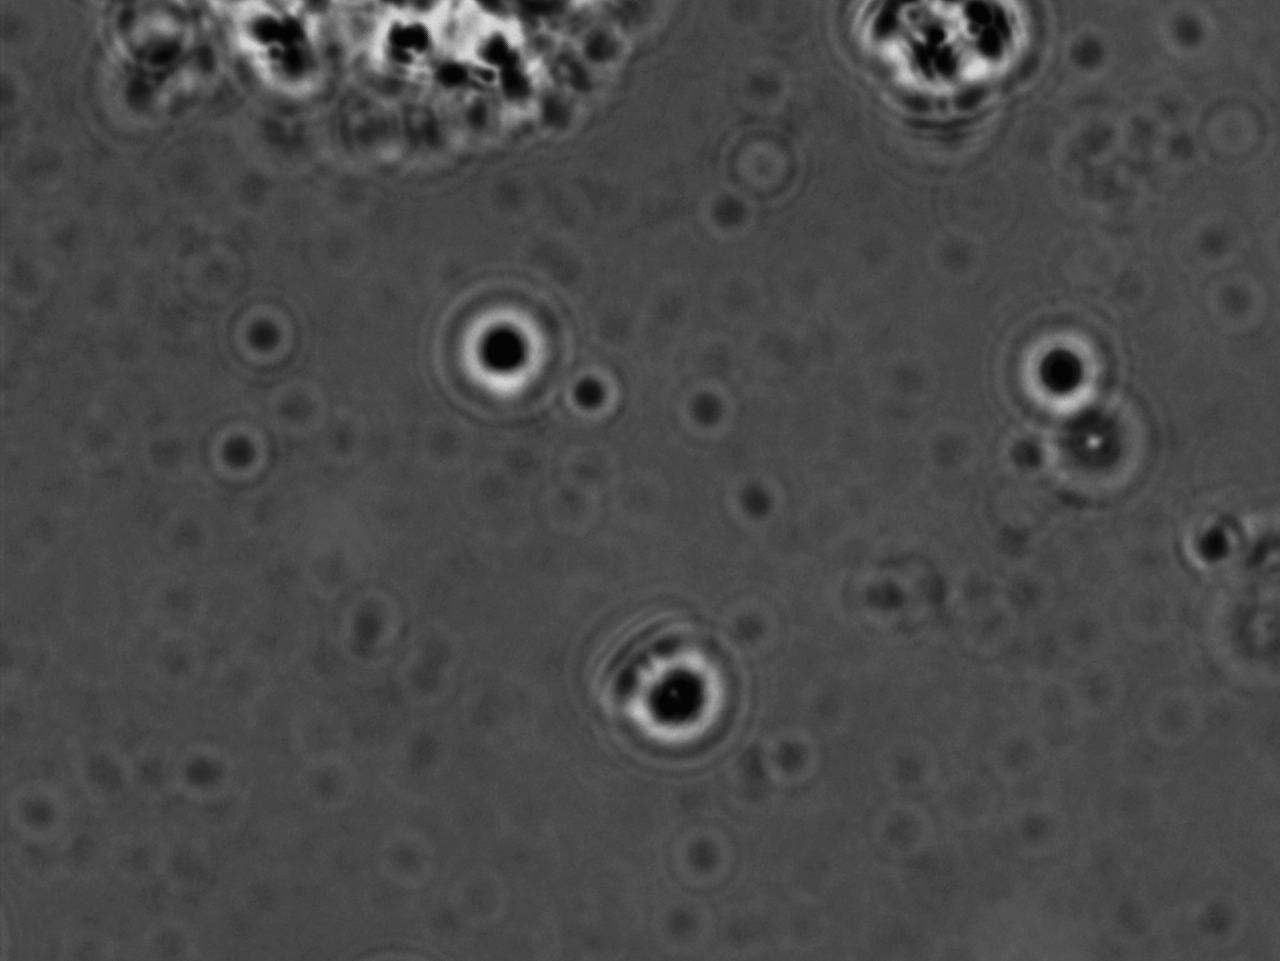depth:-24: (432, 263, 590, 429), (598, 625, 758, 776), (996, 296, 1139, 445)
